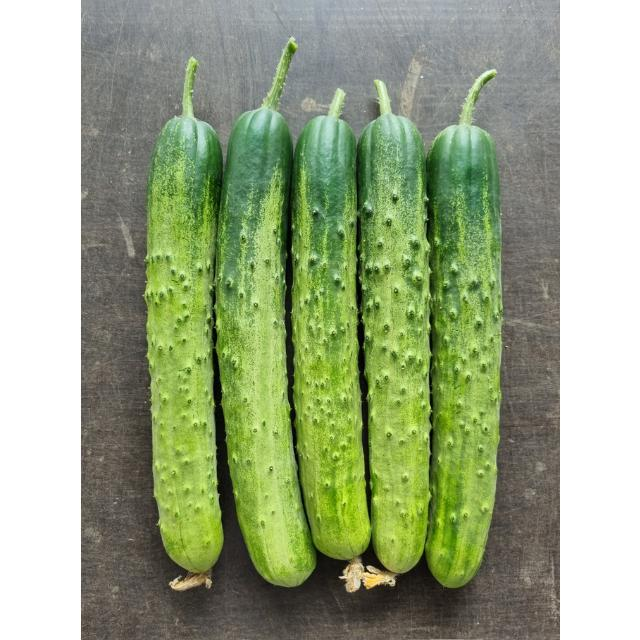cucumber: (142, 48, 498, 602)
